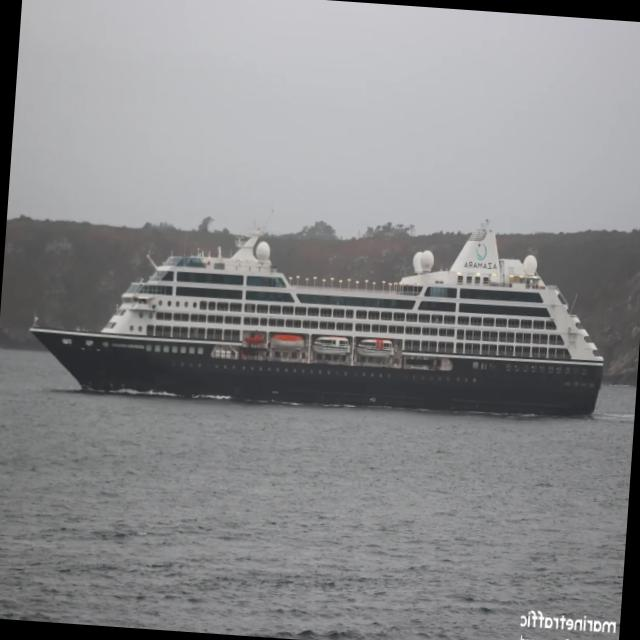Cruise: (30, 229, 603, 415)
